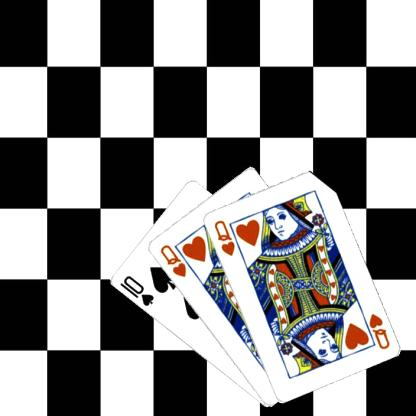10S: (117, 273, 155, 308)
QH: (358, 309, 391, 350), (157, 242, 187, 279), (211, 217, 236, 257)
